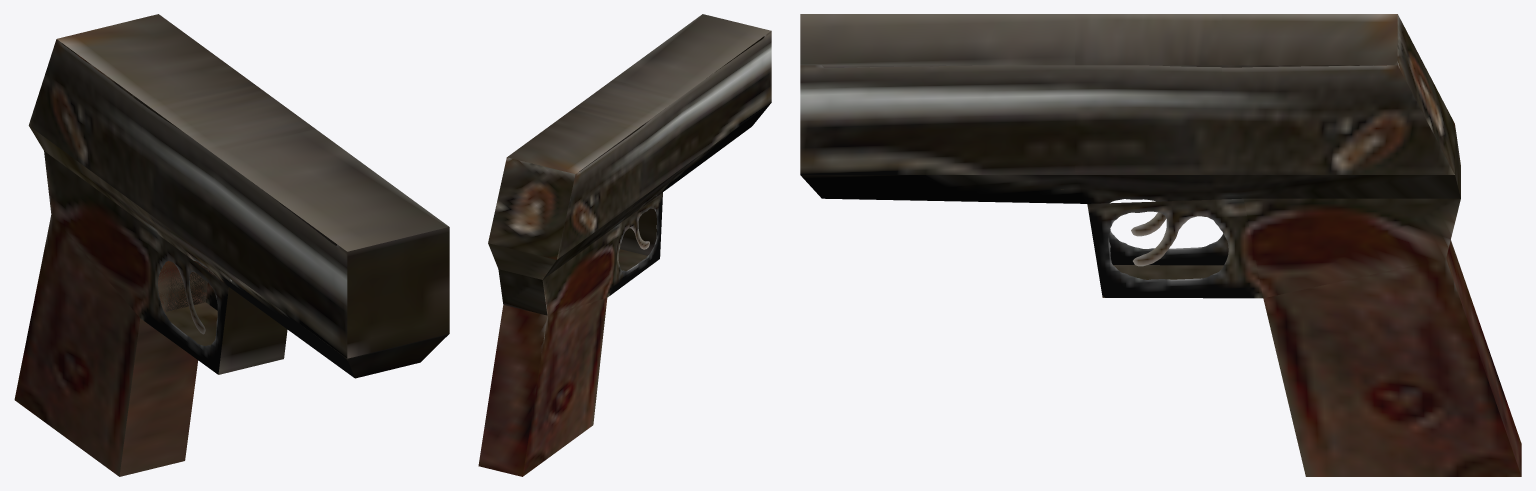
File: makarov_pistol_final.fbx
3 renders of one model, left to right at view 1: azimuth 30°, elevation 25°; view 2: azimuth 150°, elevation 25°; view 3: azimuth 270°, elevation 25°, orthographic. The views are drawn at different scales.
Parts seen in each view (by area): view 1: Cube; view 2: Cube; view 3: Cube.
Part boxes in pixels (x1,y1,x2,y2): Cube: (14,14,449,476); Cube: (478,14,771,476); Cube: (800,14,1521,476).
Bounding box in the file's own units: 200 × 1191 × 766.
